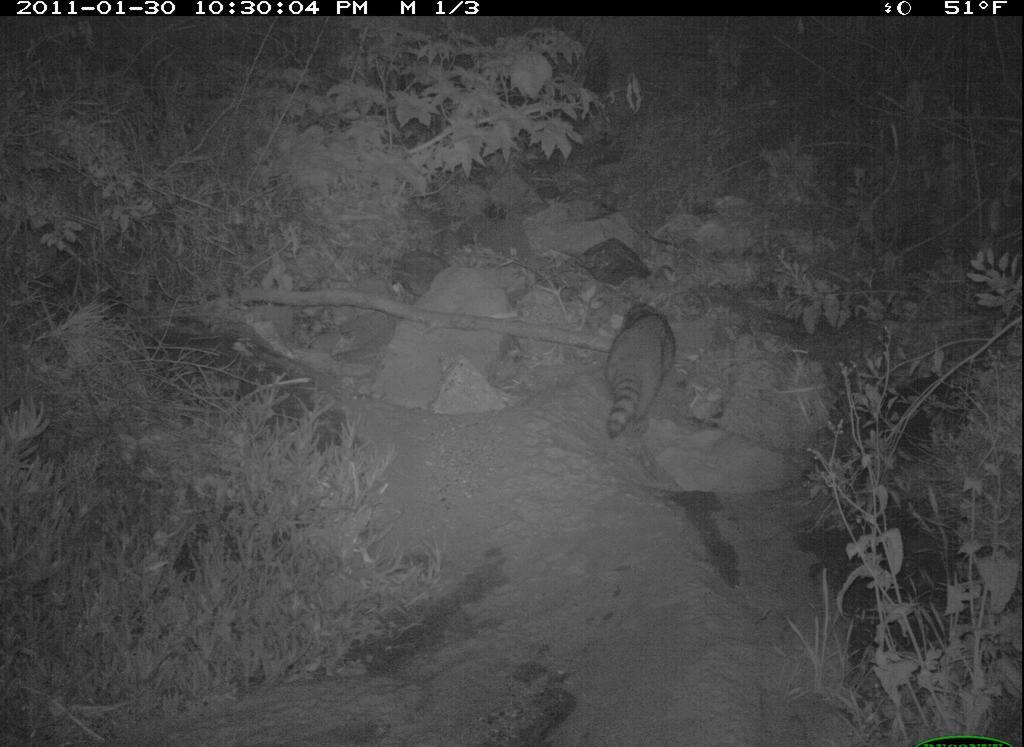raccoon: (601, 294, 684, 452)
